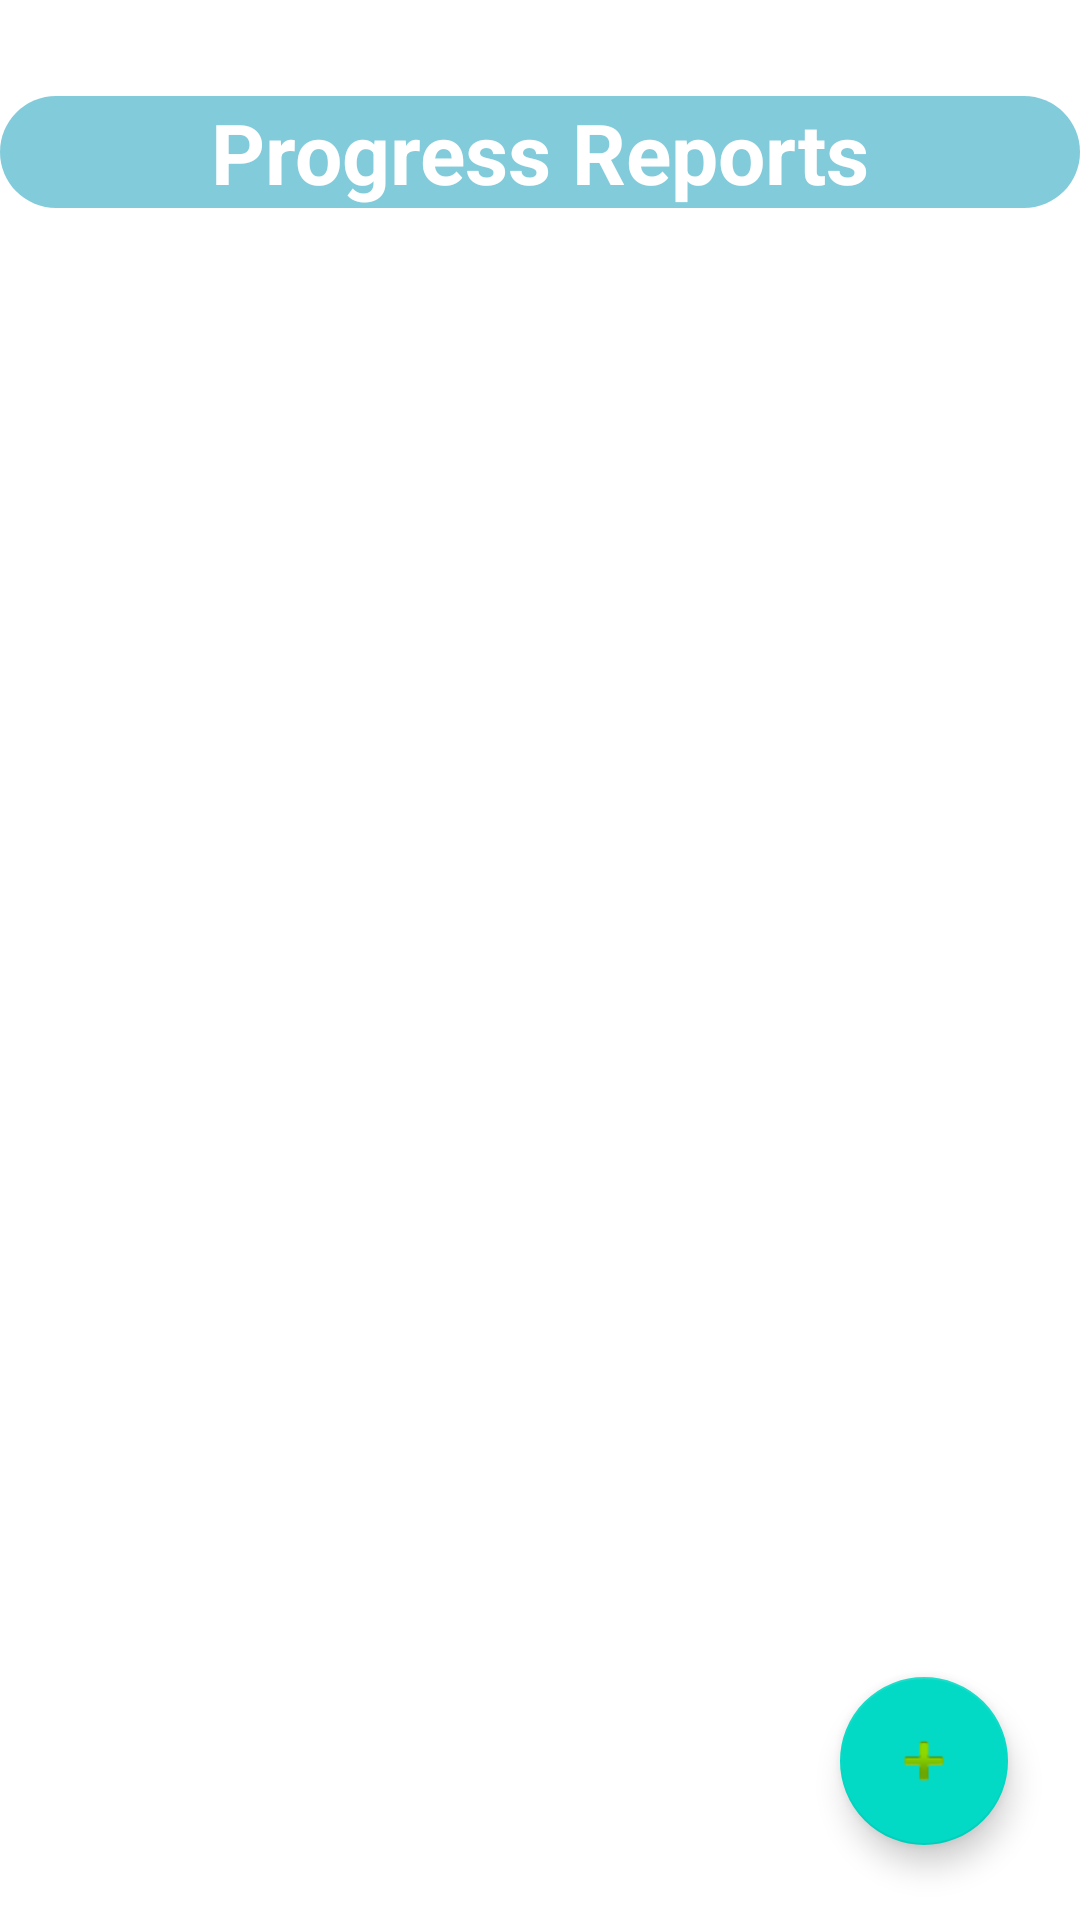

Locate icon controls on the screen. Image size 1080px×1920px, boxes as box(x1, y1, x2, y2).
add: box(840, 1677, 1008, 1845)
